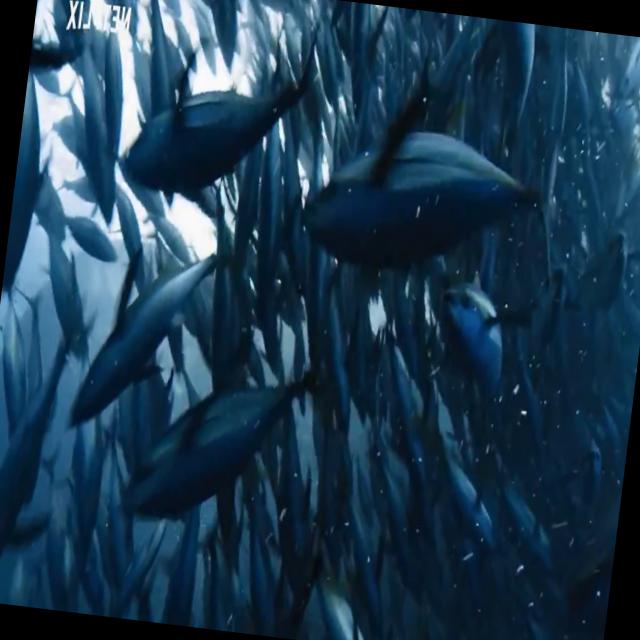fish: (284, 46, 576, 300), (97, 333, 330, 560), (61, 198, 244, 450), (100, 0, 314, 204), (0, 21, 79, 323), (397, 236, 542, 397), (0, 315, 74, 600), (414, 426, 516, 576)
